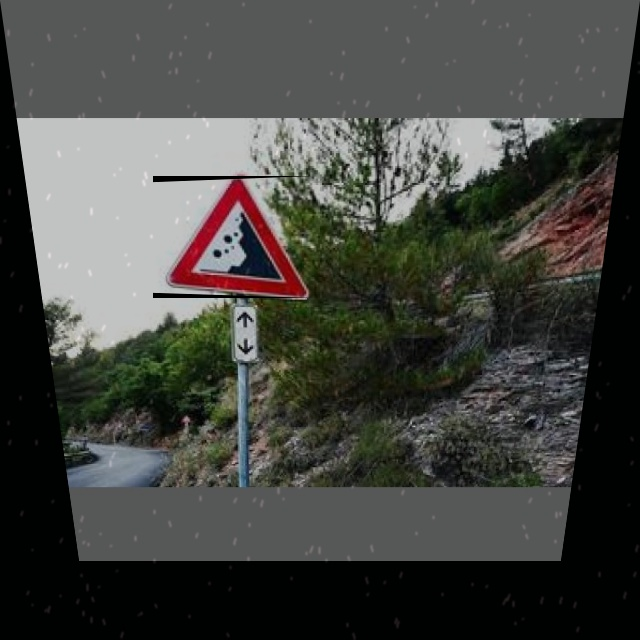Falling_Rocks: (153, 176, 314, 298)
